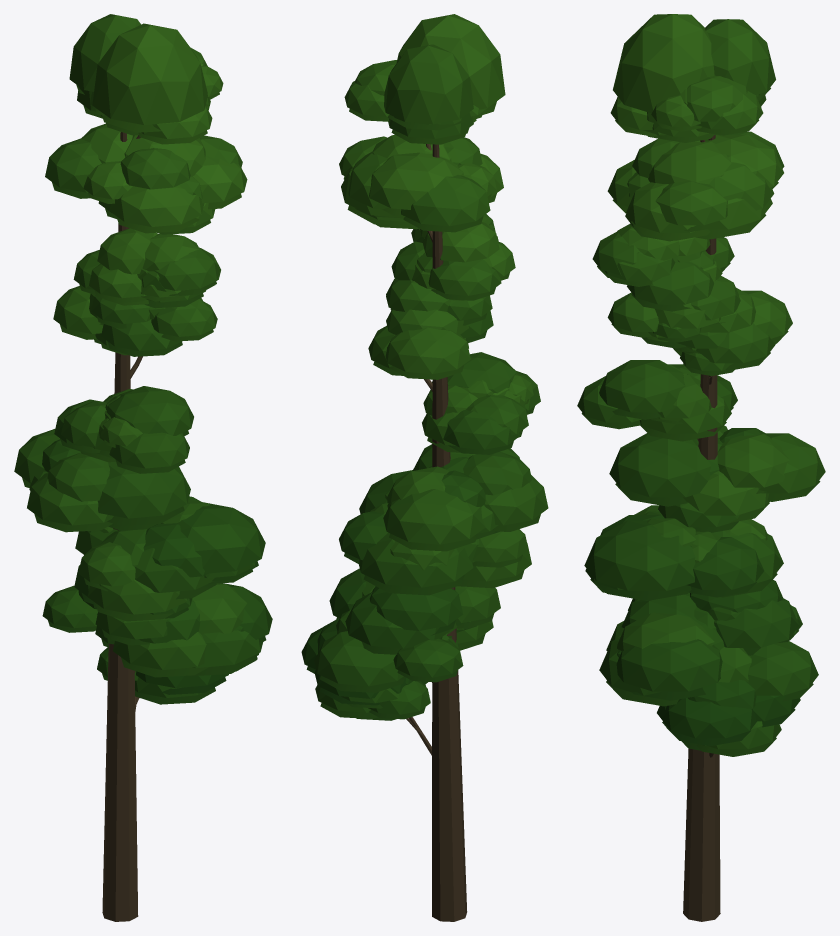
Rendered from tree_poplar_2.glb.
3 renders of one model, left to right at view 1: azimuth 30°, elevation 25°; view 2: azimuth 150°, elevation 25°; view 3: azimuth 270°, elevation 25°, orthographic. The views are drawn at different scales.
Parts seen in each view (by area): view 1: leaf, wood; view 2: leaf, wood; view 3: leaf, wood.
Boxes of the visible parts, left/top/right/bottom form: leaf: left=14, top=14, right=272, bottom=704; wood: left=102, top=132, right=142, bottom=921; leaf: left=301, top=14, right=548, bottom=720; wood: left=406, top=144, right=467, bottom=921; leaf: left=577, top=14, right=825, bottom=756; wood: left=683, top=135, right=720, bottom=921.
Size of the model in its own units: 3.69 by 13.92 by 3.45.
